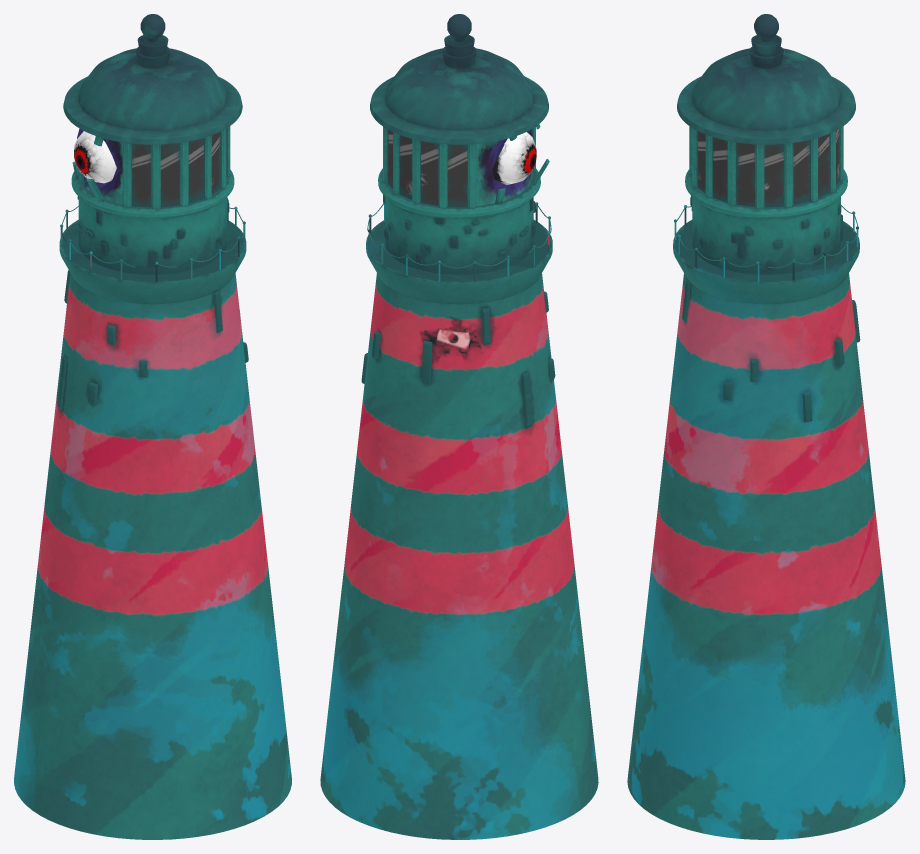
File: phareOeil.glb
The picture shows the model from 3 angles, left to right: view 1: azimuth 30°, elevation 25°; view 2: azimuth 150°, elevation 25°; view 3: azimuth 270°, elevation 25°; orthographic projection.
Parts seen in each view (by area): view 1: phare, vitre, oeil, mureOeil; view 2: phare, vitre, mureOeil, oeil; view 3: phare, vitre.
Part boxes in pixels (bbox=[...]): phare: bbox=[14, 14, 291, 839]; vitre: bbox=[132, 128, 226, 207]; oeil: bbox=[74, 131, 116, 183]; mureOeil: bbox=[77, 128, 122, 204]; phare: bbox=[320, 14, 598, 839]; vitre: bbox=[388, 130, 467, 207]; mureOeil: bbox=[476, 129, 532, 206]; oeil: bbox=[492, 132, 536, 184]; phare: bbox=[627, 14, 905, 839]; vitre: bbox=[697, 129, 839, 207].
Bounding box in the file's own units: 2 × 6.08 × 2.
Materials: 3 (3 with a texture image).
